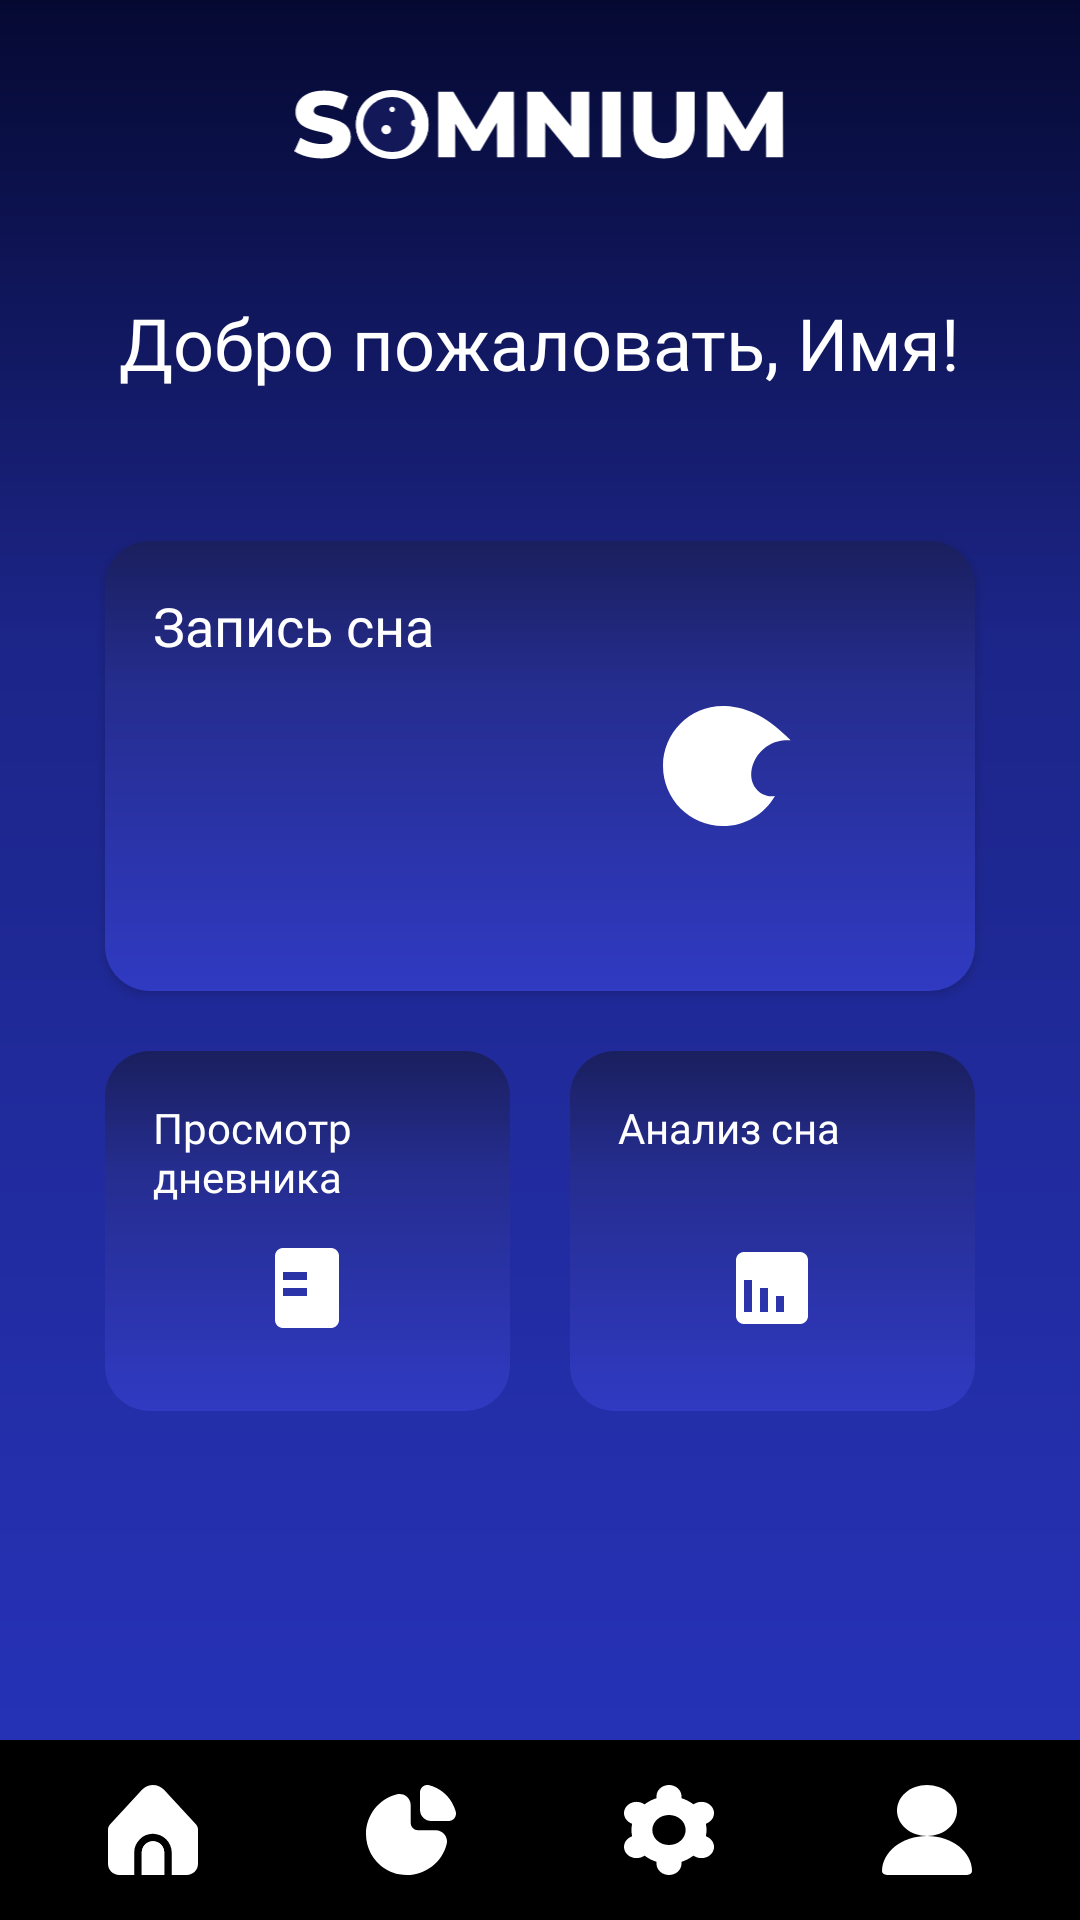

Icons on this 1080w x 1920h Android screen, each with the point to tap as (x,y):
diary view: (307,1288)
sleep analyze: (772,1288)
Анализ: (411,1830)
Главная: (153,1830)
Настройки: (669,1830)
Профиль: (927,1830)
